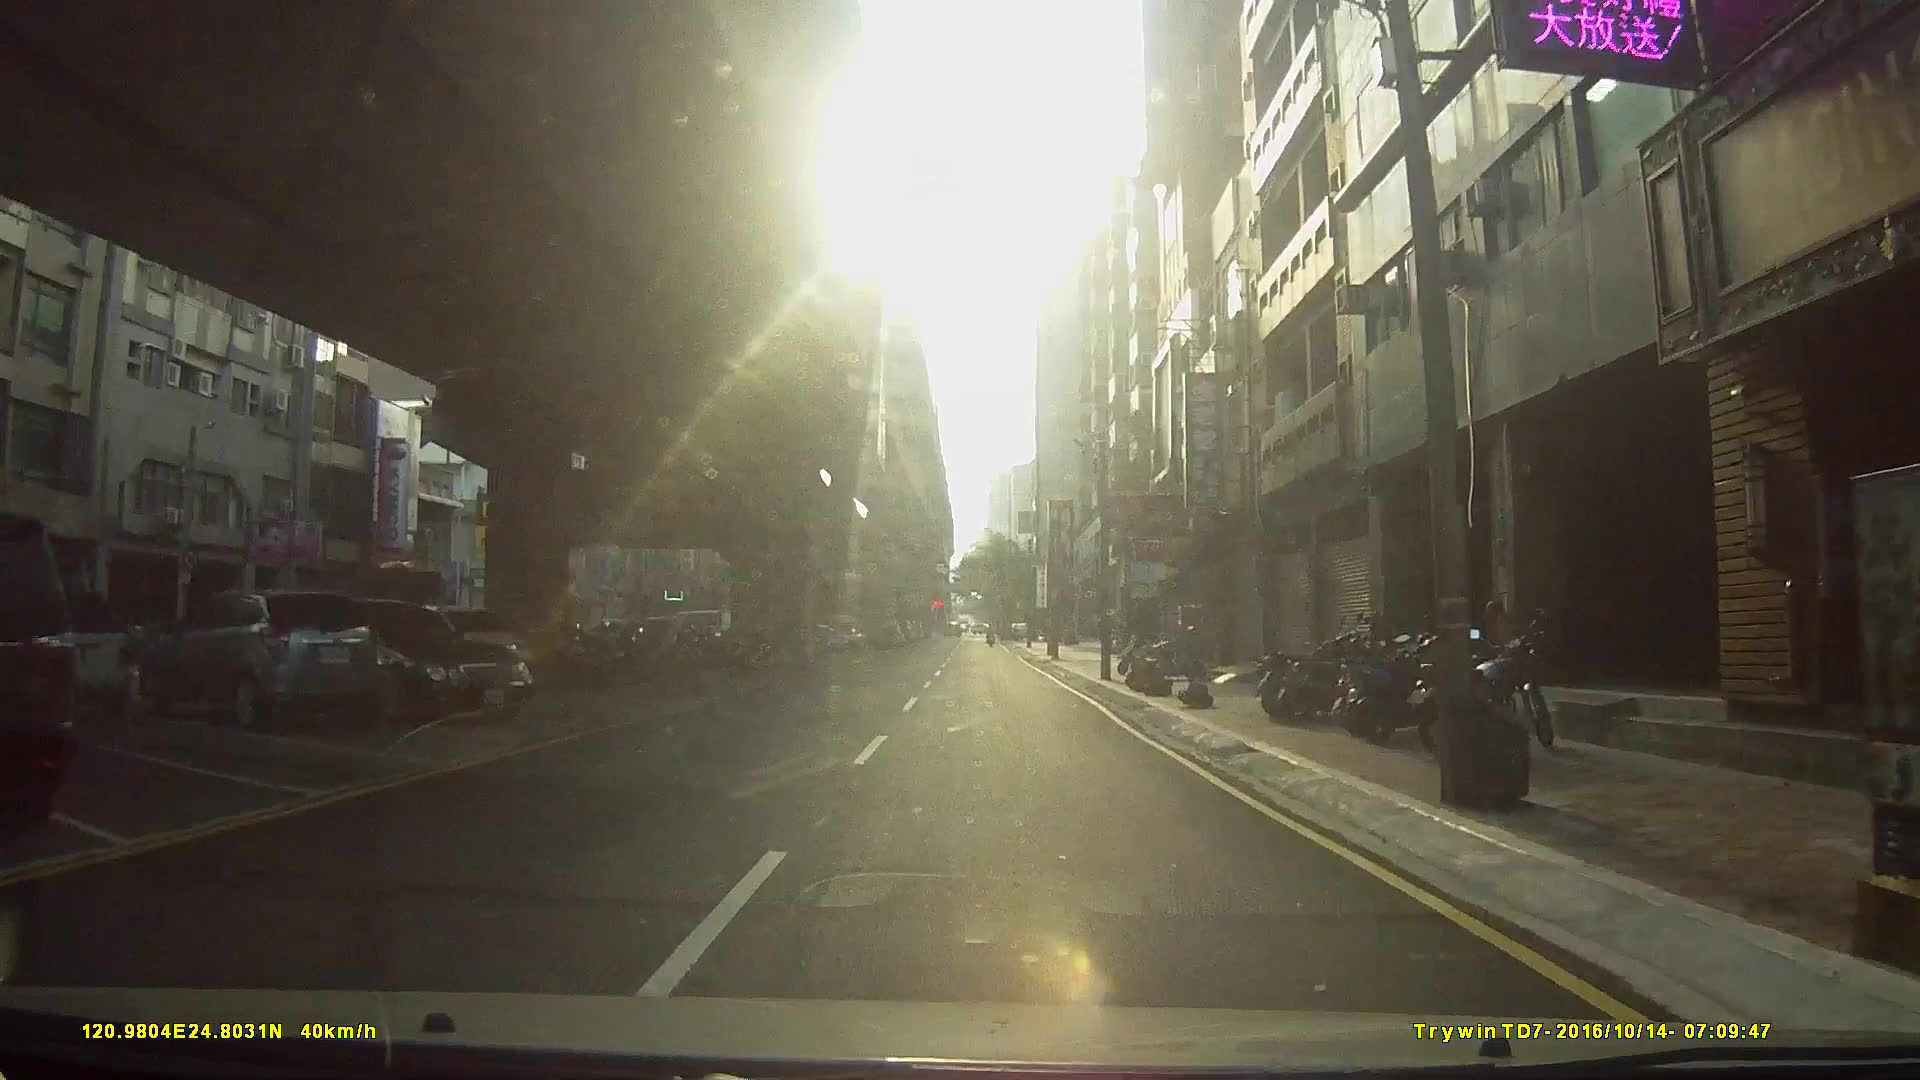vehicle: (135, 585, 382, 732), (276, 601, 534, 725), (0, 505, 84, 827), (0, 585, 135, 725)
